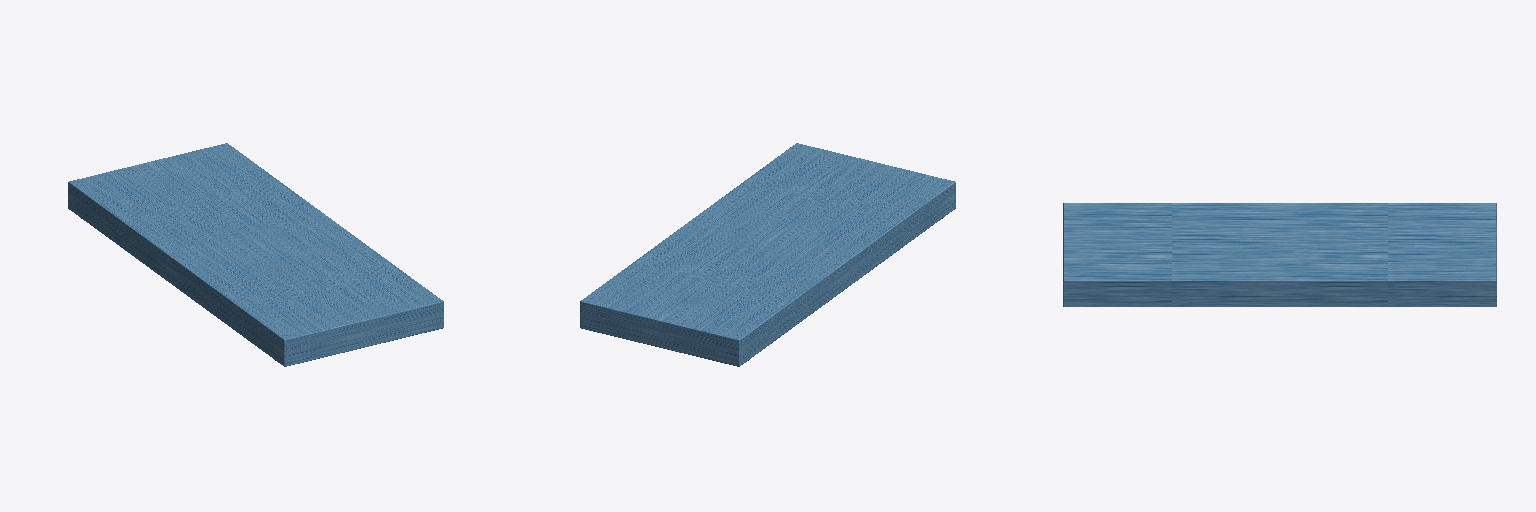
3 views of the same model, side by side, from view 1: azimuth 30°, elevation 25°; view 2: azimuth 150°, elevation 25°; view 3: azimuth 270°, elevation 25° (orthographic).
Visible parts, largest first — view 1: pp52_stell; view 2: pp52_stell; view 3: pp52_stell.
Boxes of the visible parts, x1,y1,x2,y2 form: pp52_stell: [68, 143, 443, 366]; pp52_stell: [580, 143, 955, 366]; pp52_stell: [1063, 203, 1496, 306].
Size of the model in its own units: 85 by 15 by 200.
Materials: 2 (1 with a texture image).